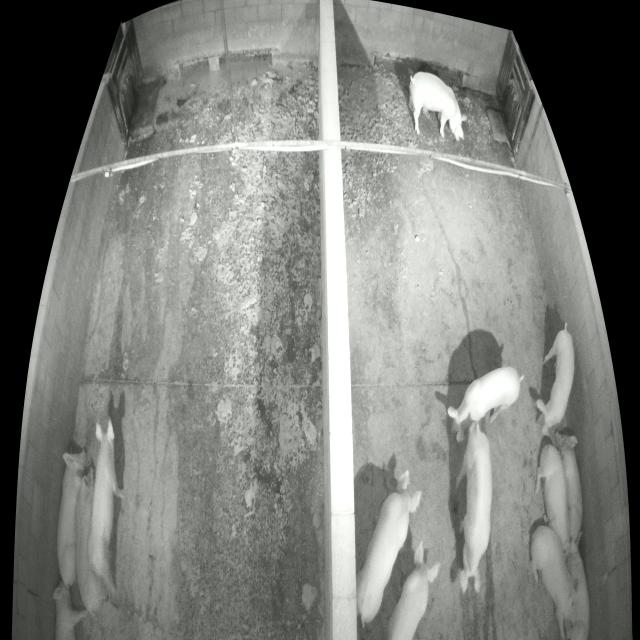pig: (356, 471, 422, 624), (87, 418, 126, 606), (457, 422, 492, 596), (447, 367, 521, 442), (532, 525, 580, 637), (386, 540, 438, 639), (74, 467, 105, 617), (56, 449, 88, 588), (536, 330, 575, 436), (409, 72, 468, 142), (535, 444, 571, 557), (556, 428, 583, 545), (566, 545, 592, 639), (52, 580, 88, 639)
